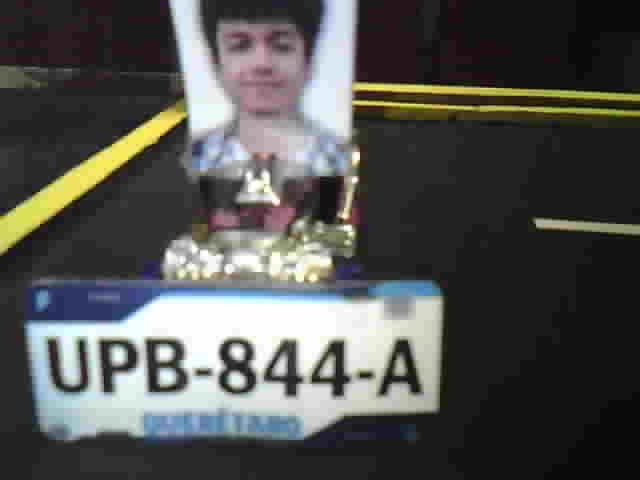PLACA: (20, 276, 445, 449)
ROSTRO: (189, 1, 351, 177)
